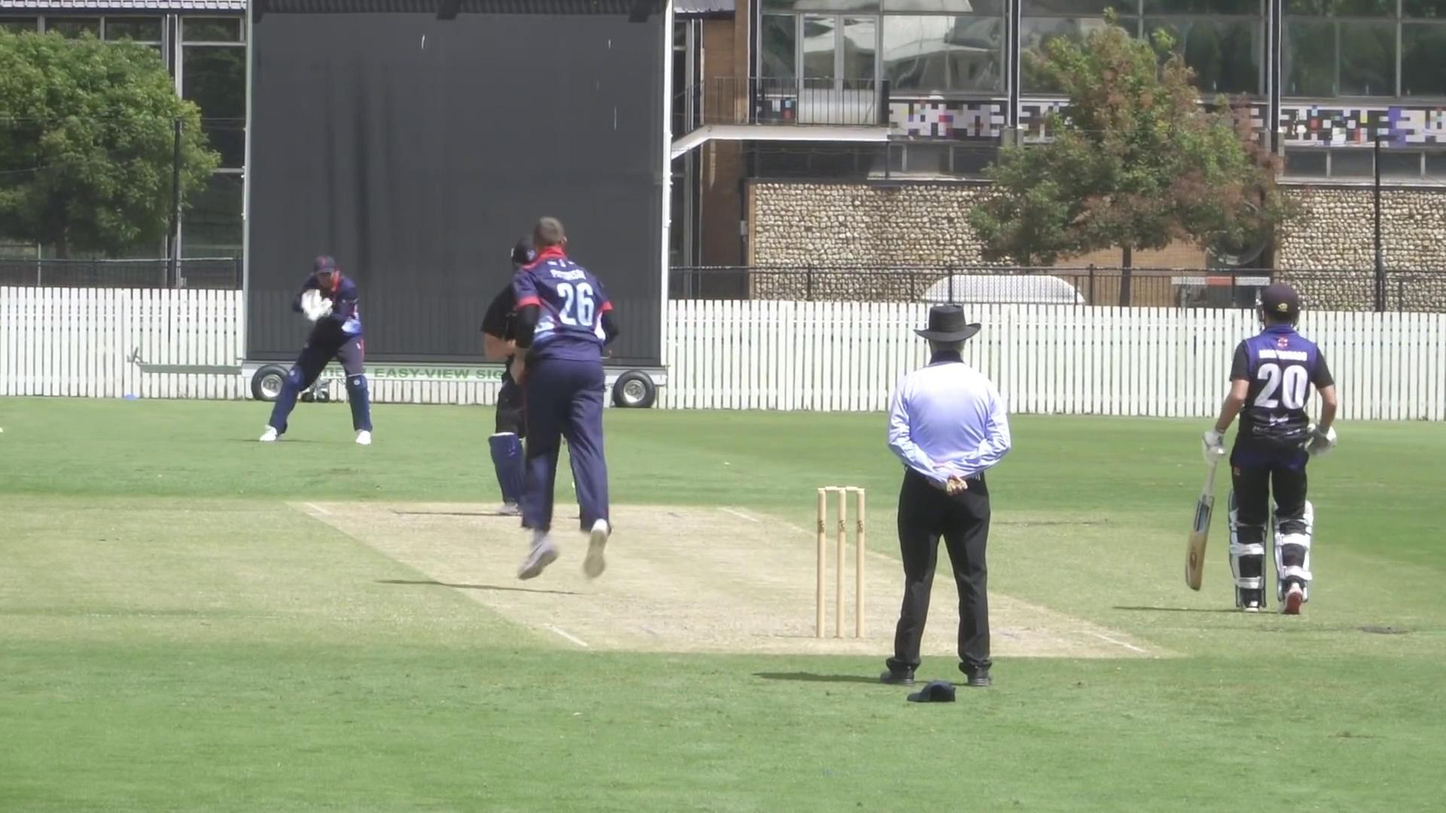ball: (307, 294, 327, 312)
